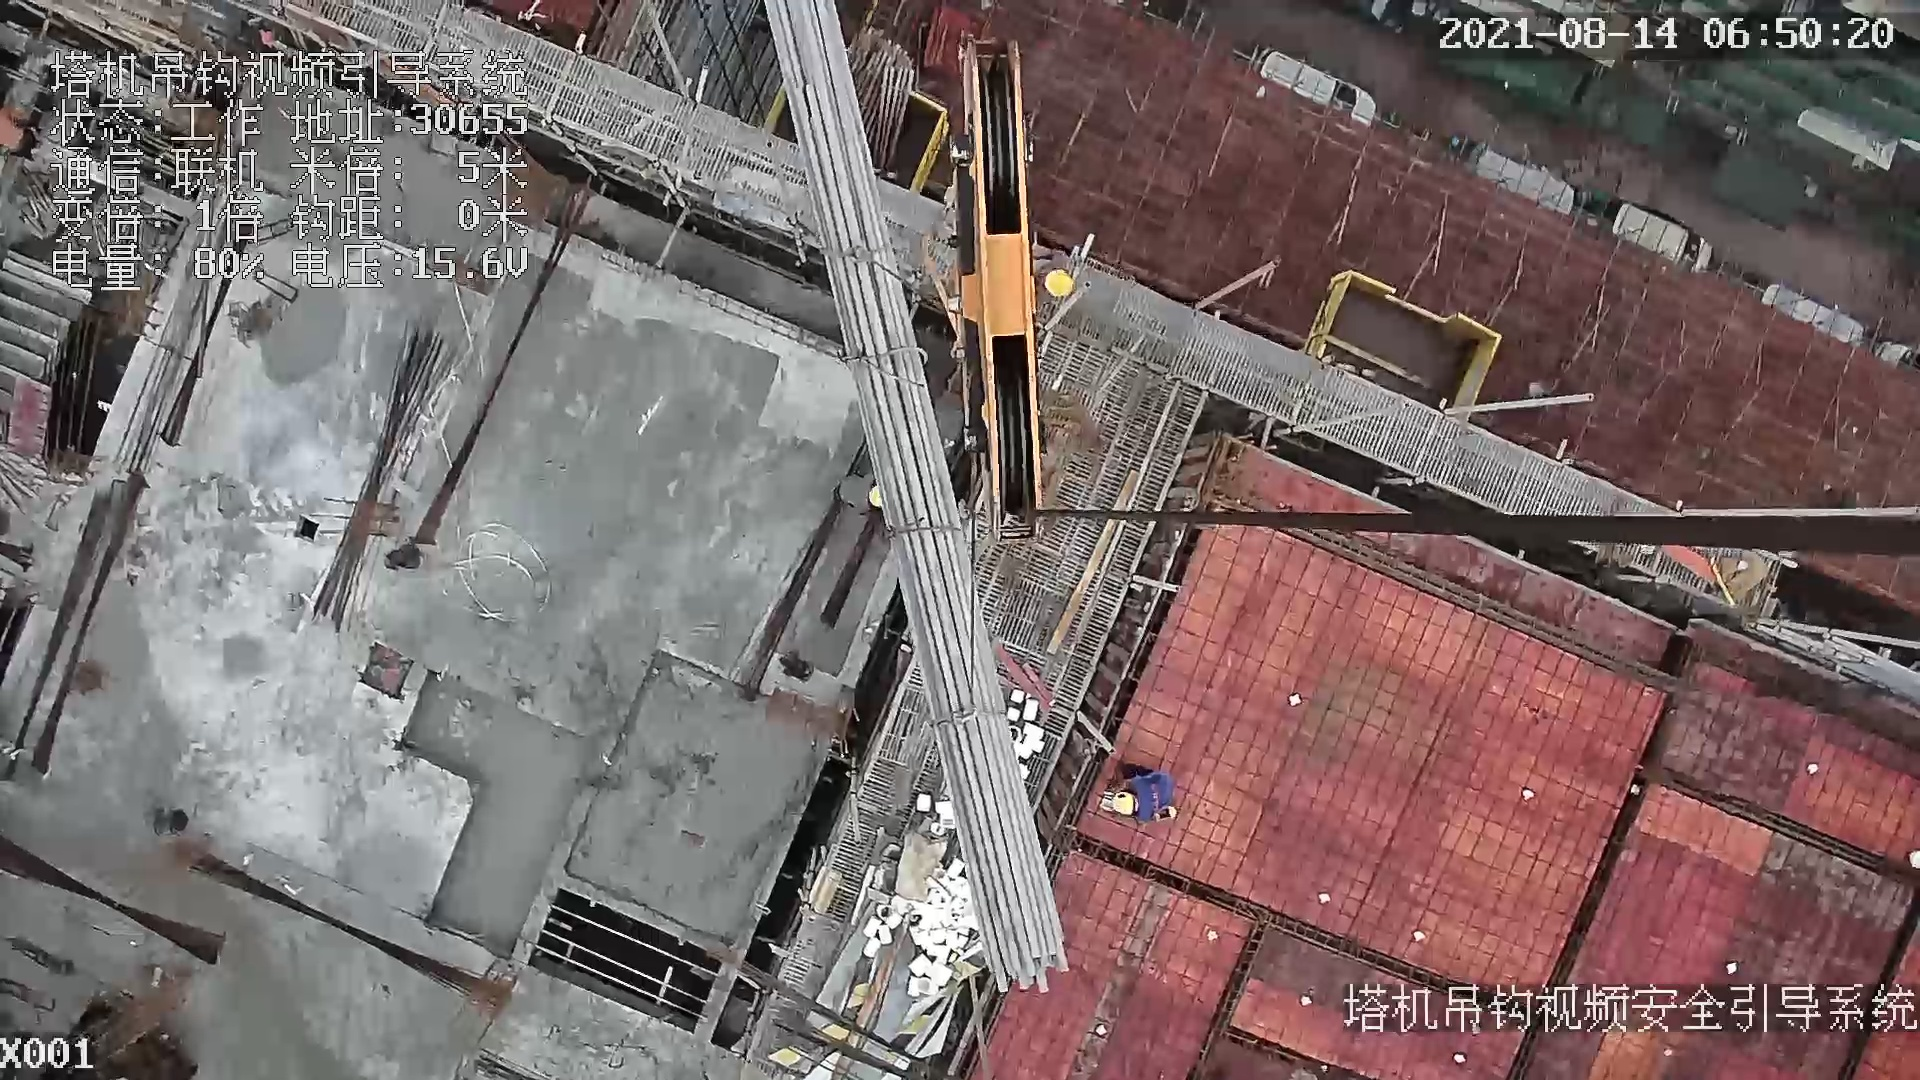helmet: (1110, 781, 1145, 819), (1041, 267, 1078, 298)
hook: (906, 28, 1058, 551)
person: (1099, 756, 1179, 823), (1026, 235, 1079, 317)
